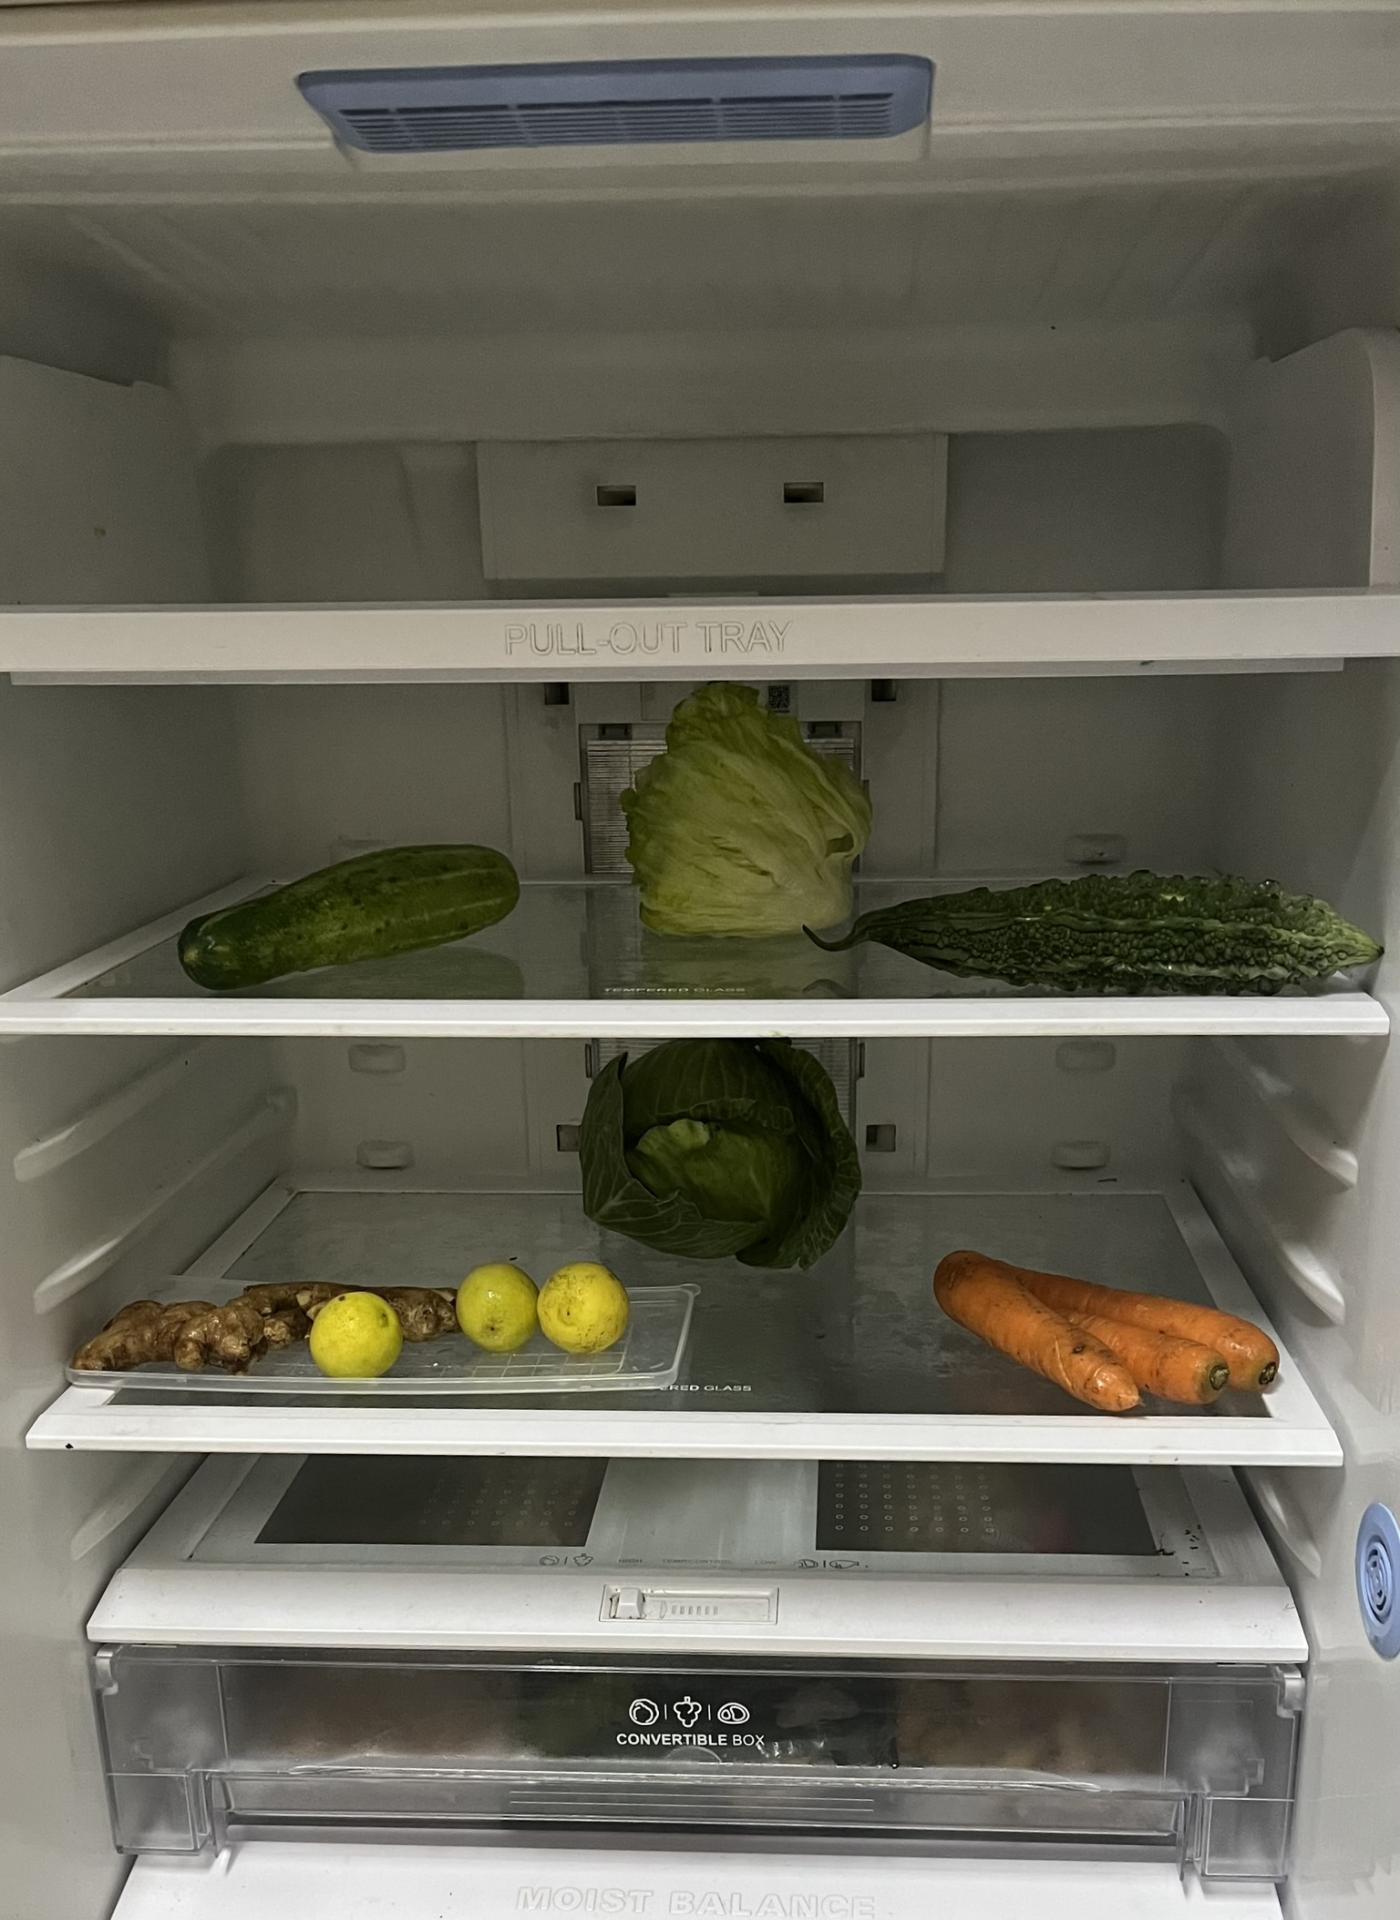bitter gourd: (842, 865, 1391, 993)
cabbage: (578, 1045, 869, 1260)
carrots: (936, 1255, 1258, 1418)
cucumber: (170, 841, 531, 984)
ginger: (75, 1272, 389, 1382)
lemon: (455, 1255, 637, 1362), (304, 1286, 414, 1382)
lettuce: (631, 695, 871, 945)
